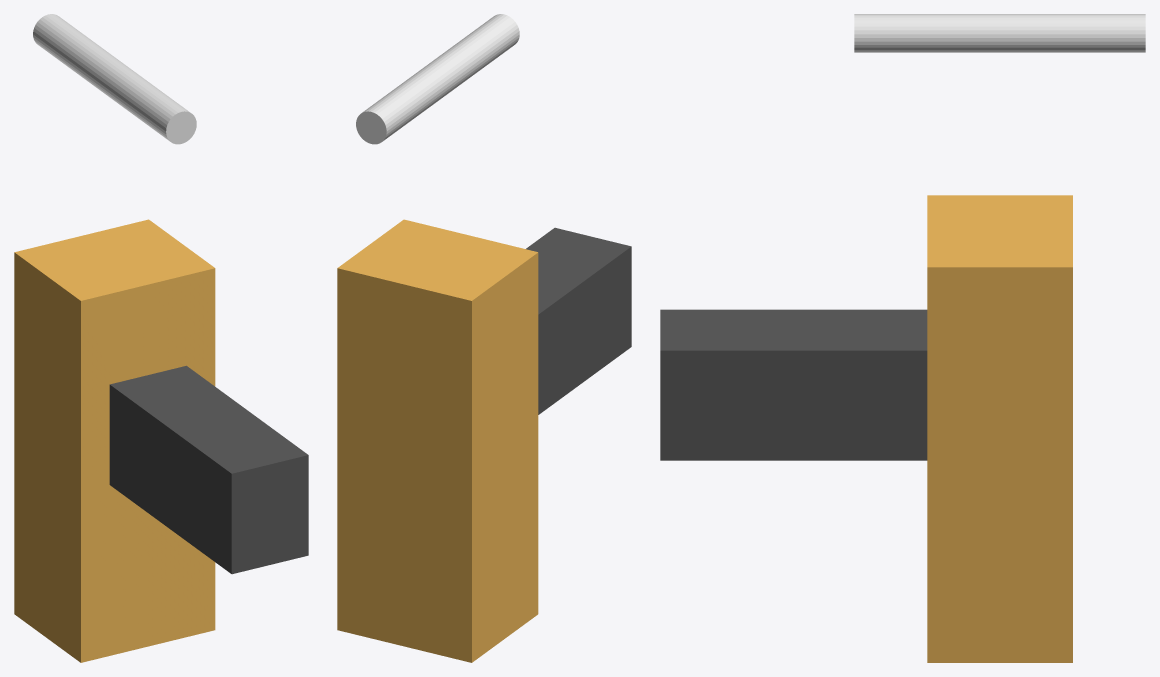
Rendered from drill.glb.
The picture shows the model from 3 angles, left to right: view 1: azimuth 30°, elevation 25°; view 2: azimuth 150°, elevation 25°; view 3: azimuth 270°, elevation 25°; orthographic projection. The views are drawn at different scales.
Parts seen in each view (by area): view 1: Cube, Cube.001, Cylinder; view 2: Cube, Cube.001, Cylinder; view 3: Cube, Cube.001, Cylinder.
Part boxes in pixels (x1,y1,x2,y2): Cube: (14,219,215,662); Cube.001: (109,365,308,574); Cylinder: (33,14,196,144); Cube: (337,219,538,662); Cube.001: (526,227,631,414); Cylinder: (356,14,519,144); Cube: (927,195,1072,662); Cube.001: (660,309,927,460); Cylinder: (854,14,1145,52).
Size of the model in its own units: 0.07 by 0.278 by 0.2.
